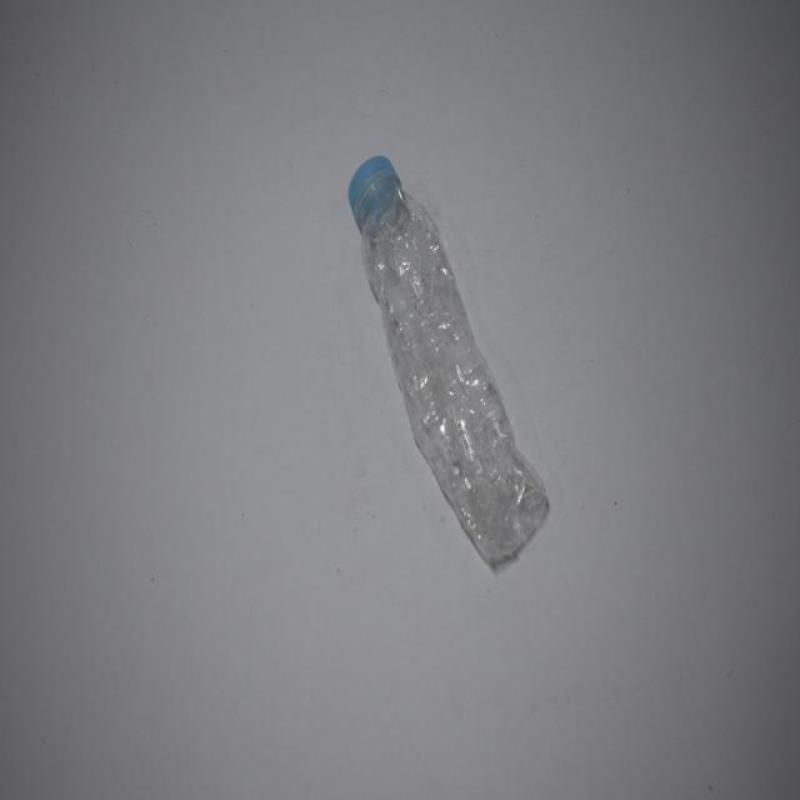botella: (343, 153, 551, 573)
